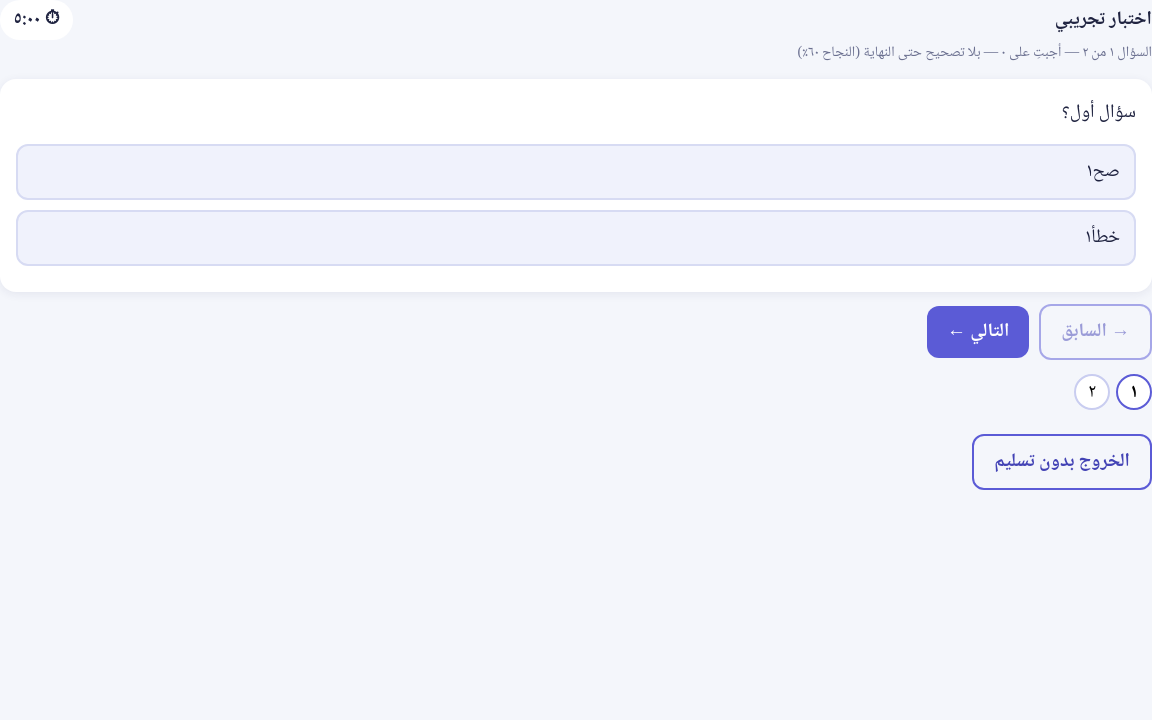
Test: منتصف/نهاية الفصل: صارم › رسوب: قفل ٢٤ ساعة وبلا زر إعادة ولا شهادة
Click the button "خطأ١" at (1088, 238), box 16,210 -> 1136,266
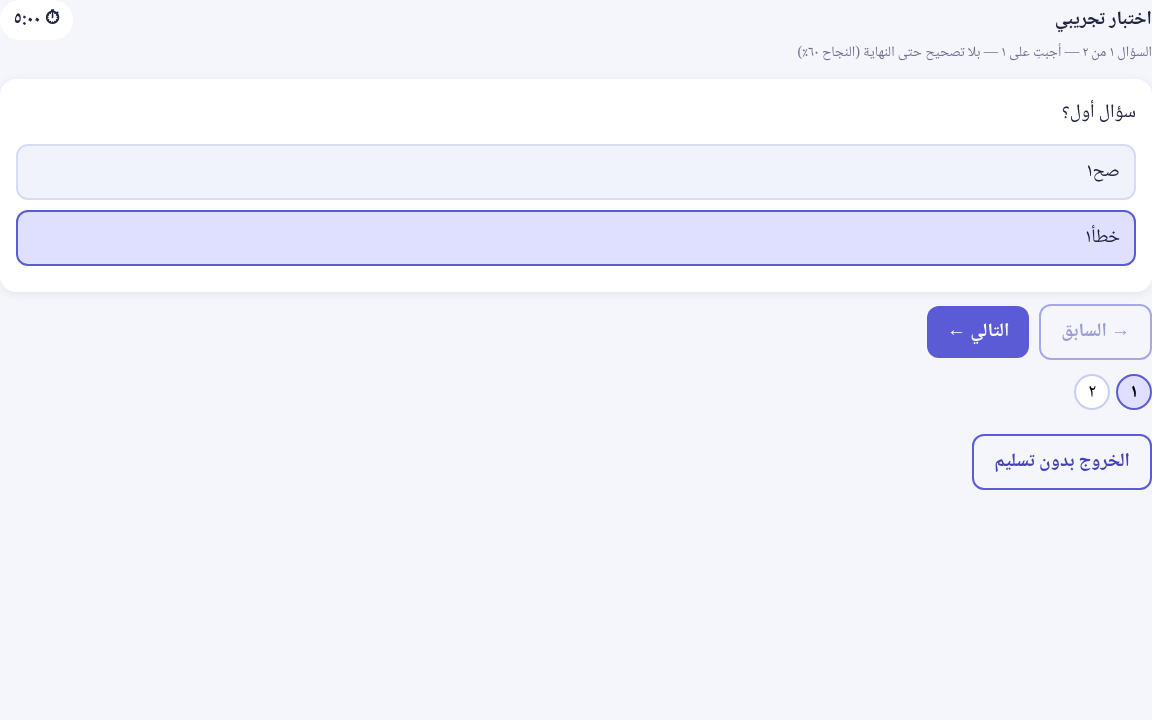
Click the button "التالي ←" at (978, 332), box 927,306 -> 1029,358
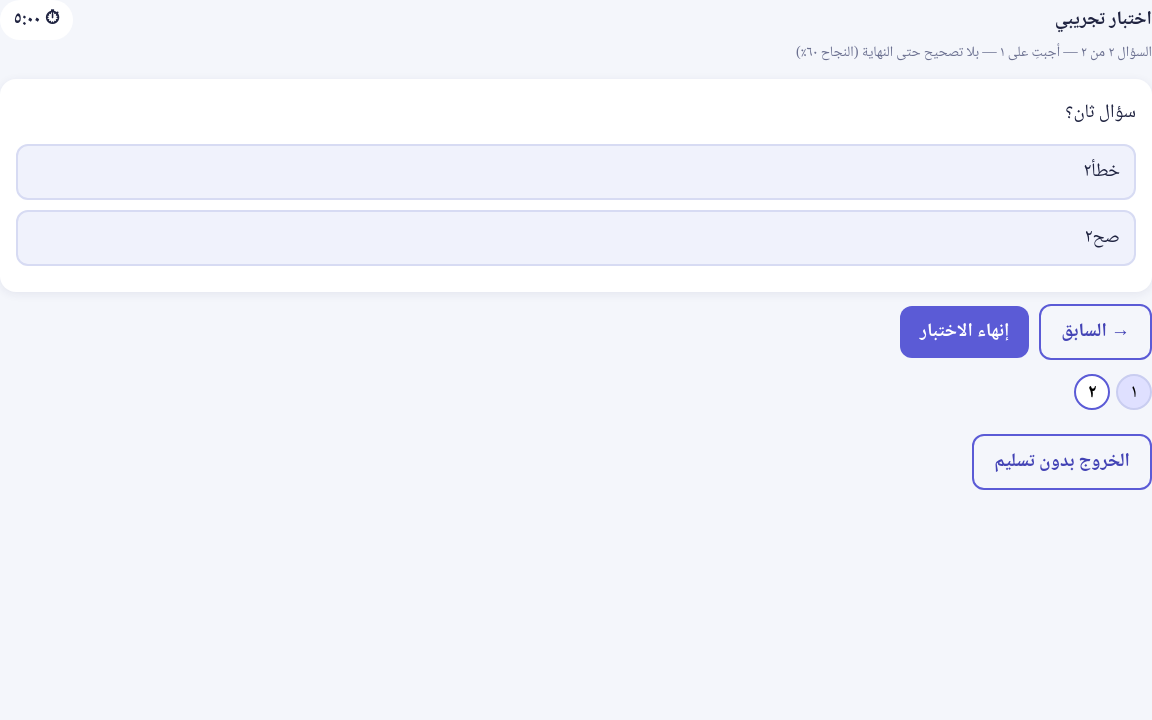
Click the button "خطأ٢" at (1087, 172), box 16,144 -> 1136,200
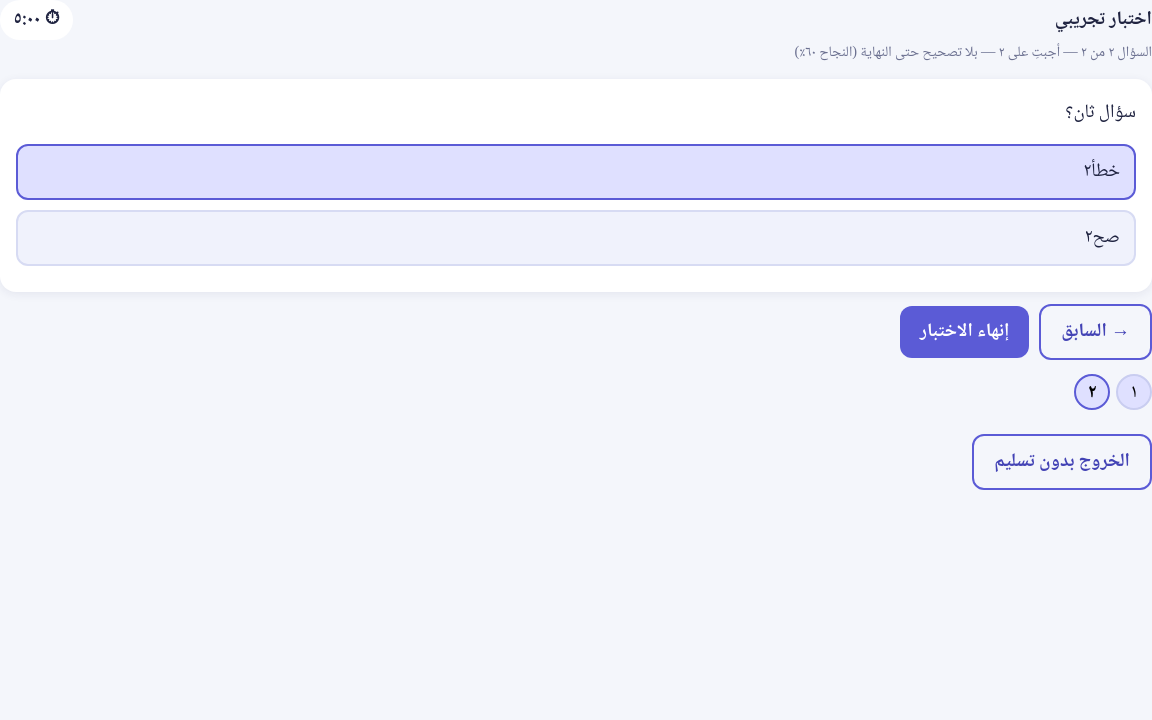
Click the button "إنهاء الاختبار" at (965, 332), box 900,306 -> 1029,358
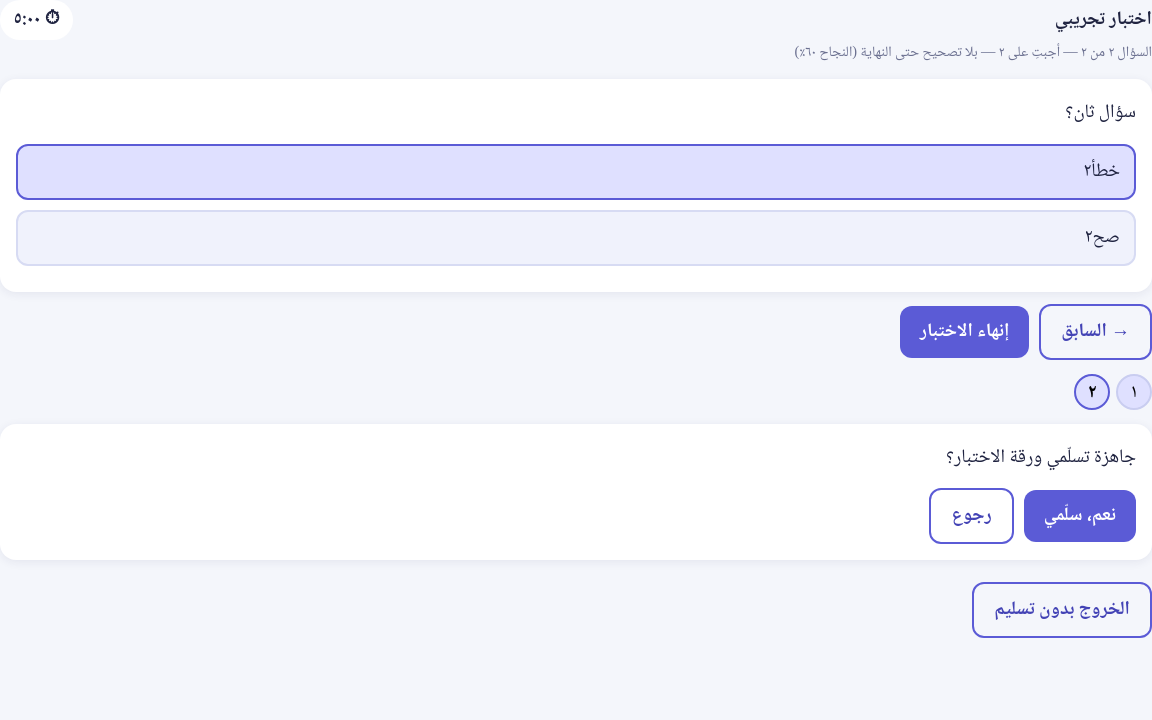
Click the button "نعم، سلّمي" at (1080, 516), box 1024,490 -> 1136,542
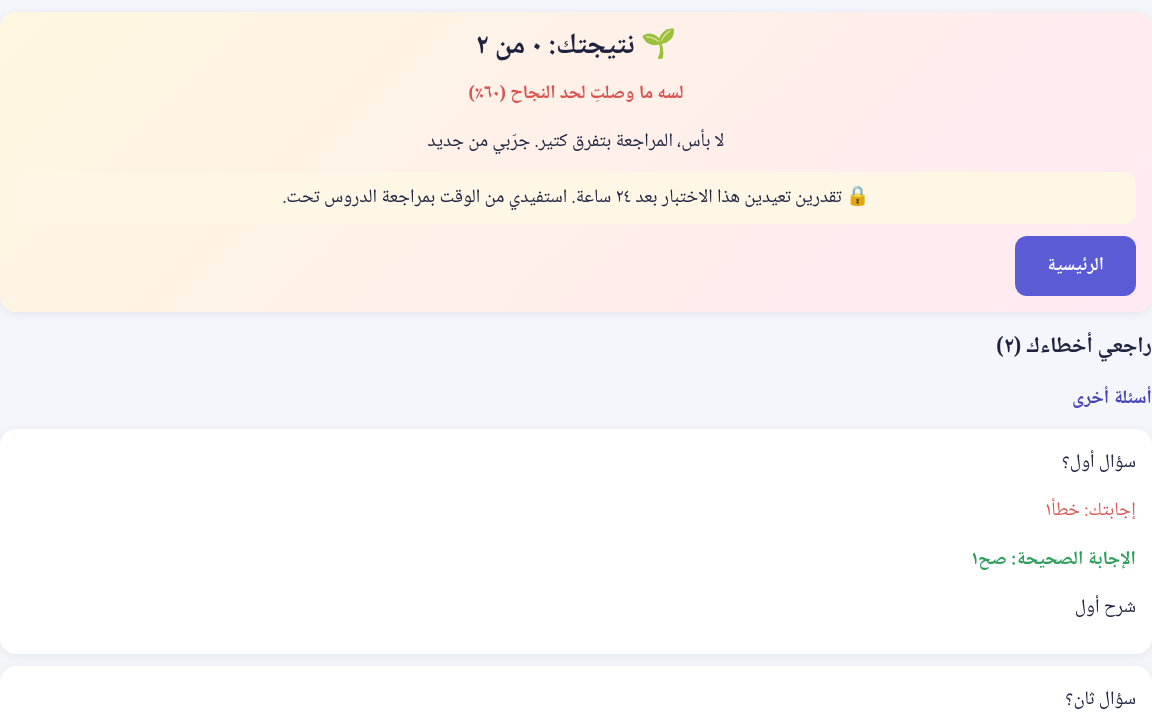
Expected: the text "🔒 تقدرين تعيدين هذا الاختبار بعد ٢٤ ساعة. استفيدي من الوقت بمراجعة الدروس تحت." is shown, 16,172 -> 1136,224
Expected: the heading "راجعي أخطاءك (٢)" is shown, 996,328 -> 1151,366
